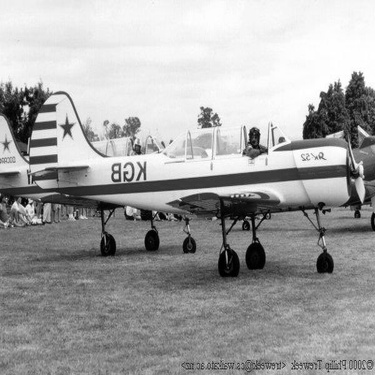airplane: (22, 75, 368, 285), (1, 103, 187, 227), (277, 102, 374, 249)
